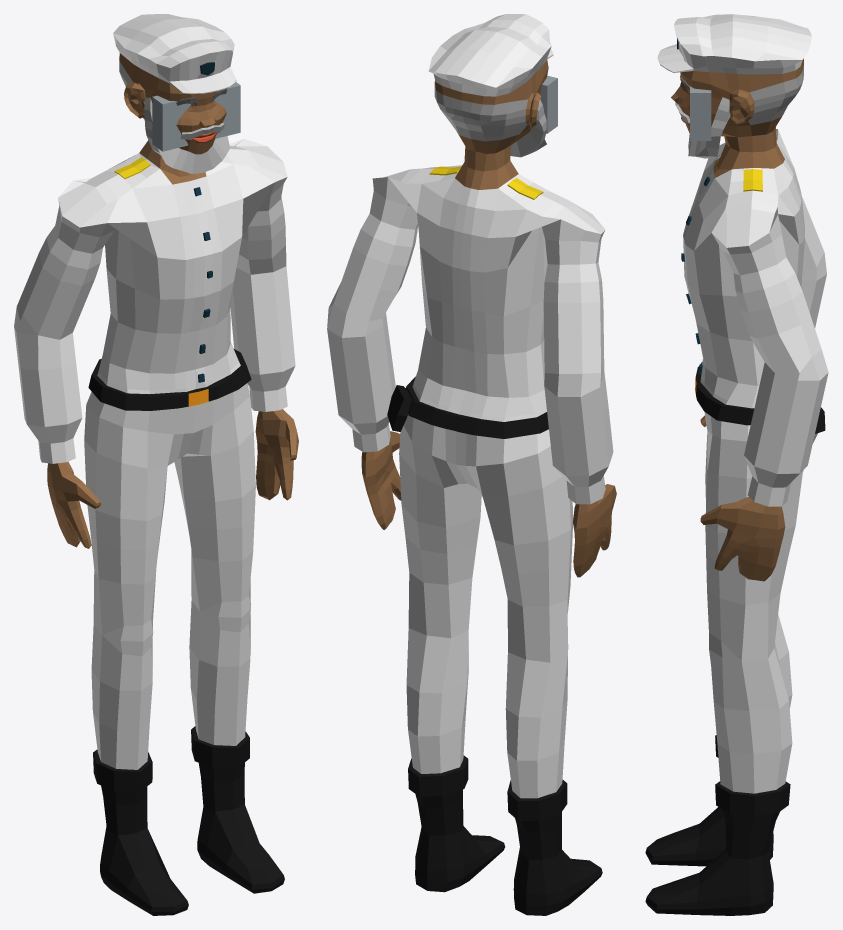
Rendered from TrafficPolice_Stand_Mask.fbx.
3 views of the same model, side by side, from view 1: azimuth 30°, elevation 25°; view 2: azimuth 150°, elevation 25°; view 3: azimuth 270°, elevation 25° (orthographic).
Visible parts, largest first — view 1: TrafficPolice_Stand_Mask; view 2: TrafficPolice_Stand_Mask; view 3: TrafficPolice_Stand_Mask.
Part boxes in pixels (<box>): TrafficPolice_Stand_Mask: <box>14,14,298,915</box>; TrafficPolice_Stand_Mask: <box>327,14,616,915</box>; TrafficPolice_Stand_Mask: <box>645,14,828,915</box>.
Bounding box in the file's own units: 0.324 × 0.9819 × 0.1896.
